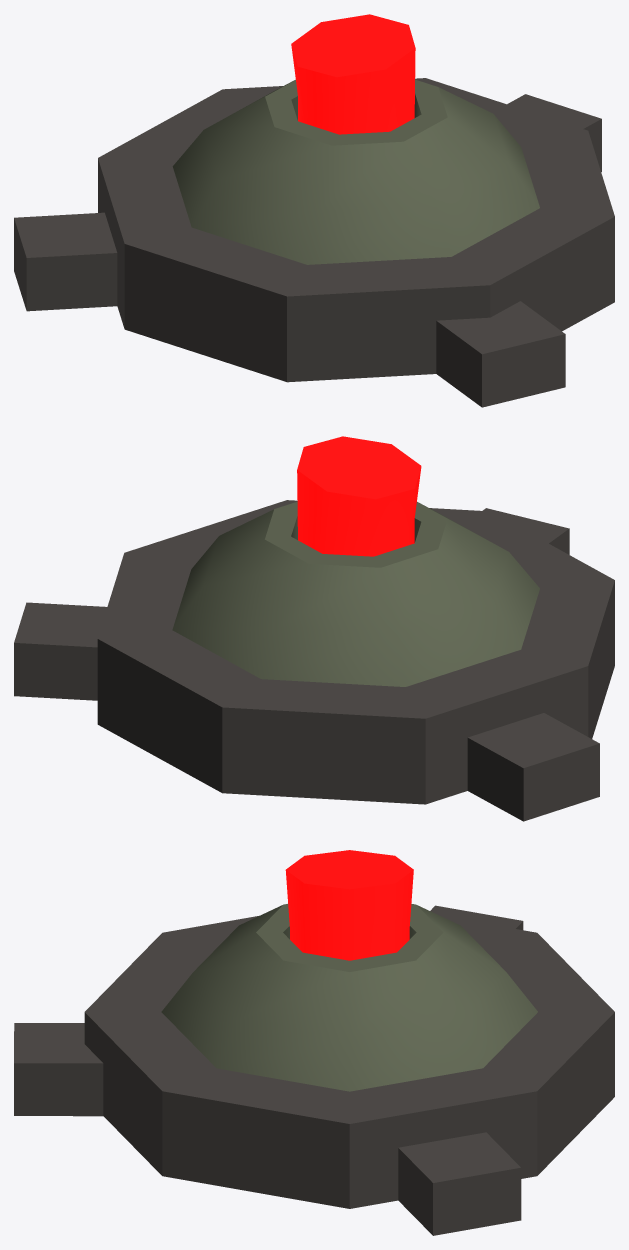
Rendered from mine_1.fbx.
3 renders of one model, top to bottom at view 1: azimuth 30°, elevation 25°; view 2: azimuth 150°, elevation 25°; view 3: azimuth 270°, elevation 25°, orthographic.
Parts seen in each view (by area): view 1: mine_1; view 2: mine_1; view 3: mine_1.
Boxes of the visible parts, box(x1,y1,x2,y2) form: mine_1: box(14, 14, 614, 407); mine_1: box(14, 436, 614, 821); mine_1: box(14, 850, 614, 1235).
Size of the model in its own units: 121 by 47.52 by 111.
